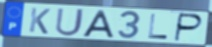3: (117, 10, 142, 41)
A: (81, 10, 116, 40)
K: (28, 6, 52, 35)
L: (147, 13, 170, 40)
P: (173, 12, 205, 43)
U: (54, 7, 86, 37)
